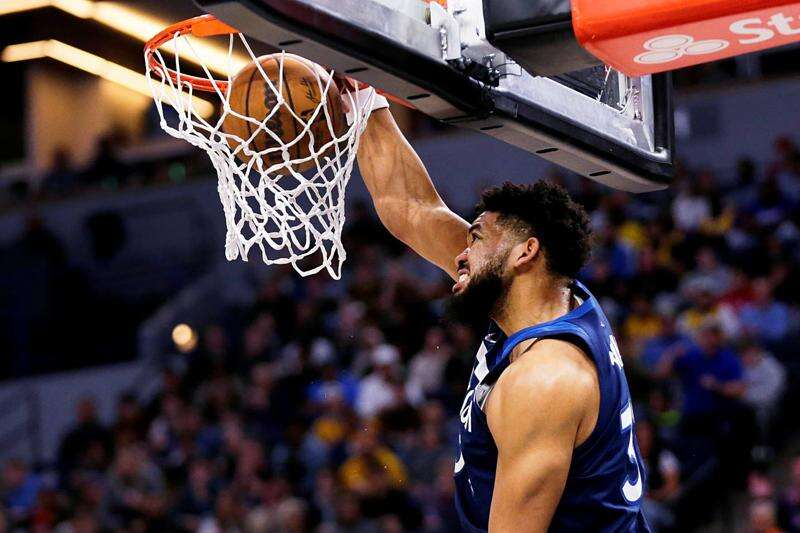MadeBasket: (144, 14, 372, 280)
